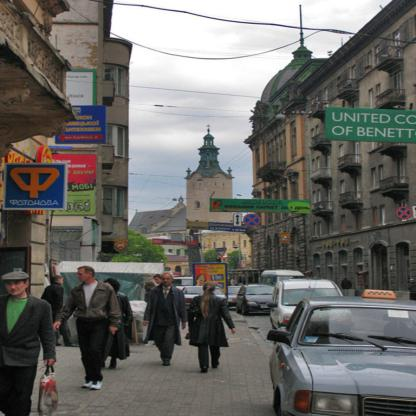Car: (177, 270, 415, 416)
